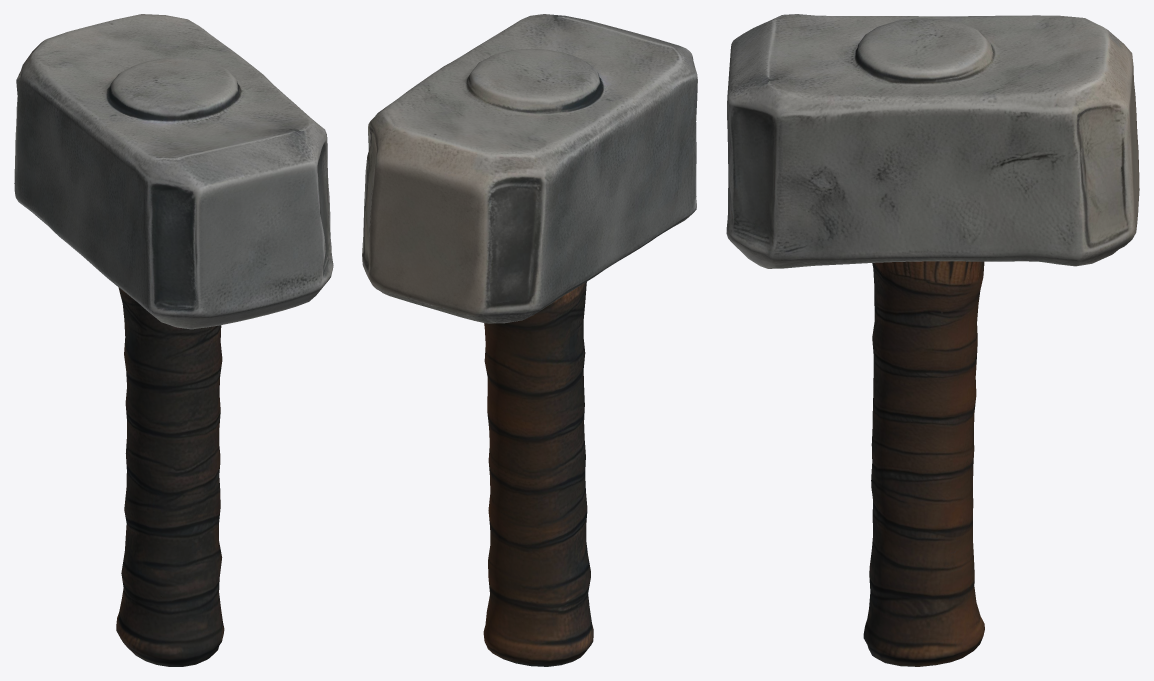
The model's file is hammer.fbx.
The picture shows the model from 3 angles, left to right: view 1: azimuth 30°, elevation 25°; view 2: azimuth 150°, elevation 25°; view 3: azimuth 270°, elevation 25°; orthographic projection. The views are drawn at different scales.
Parts seen in each view (by area): view 1: hammer; view 2: hammer; view 3: hammer.
Part boxes in pixels (x1,y1,x2,y2): hammer: (14, 14, 333, 666); hammer: (362, 14, 697, 666); hammer: (726, 14, 1139, 666).
Bounding box in the file's own units: 16.55 × 47.4 × 28.99.
Materials: 1 (1 with a texture image).
